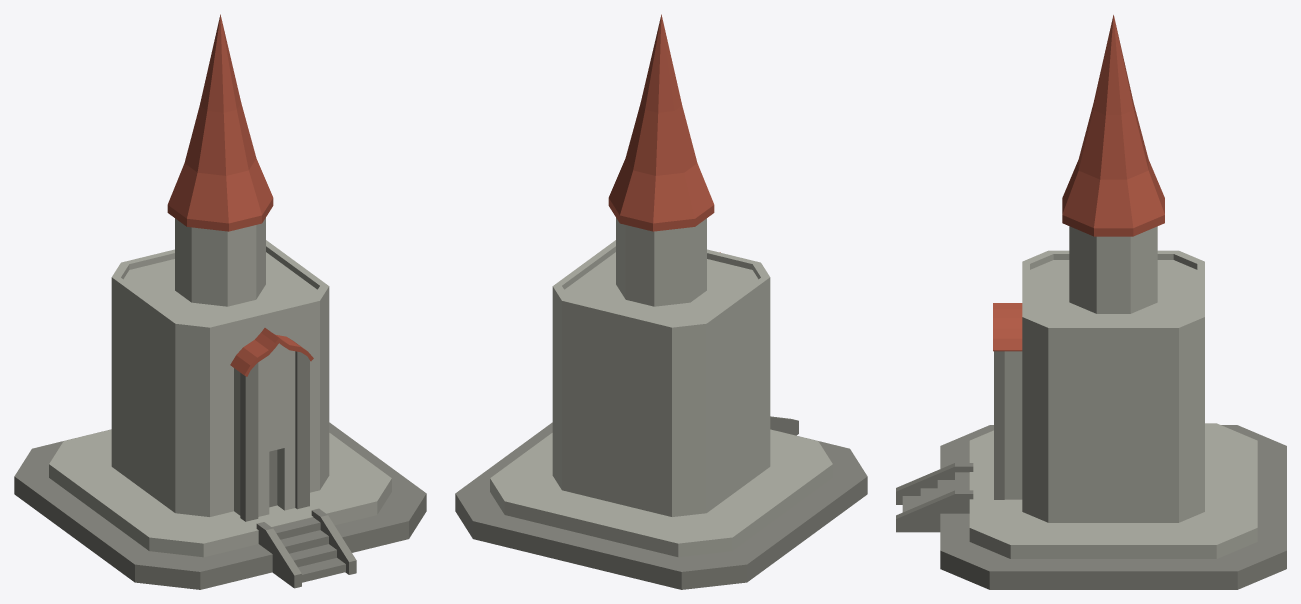
The model's file is Temple.glb.
3 renders of one model, left to right at view 1: azimuth 30°, elevation 25°; view 2: azimuth 150°, elevation 25°; view 3: azimuth 270°, elevation 25°, orthographic. The views are drawn at different scales.
Parts seen in each view (by area): view 1: Temple; view 2: Temple; view 3: Temple.
Part boxes in pixels (bbox=[...]): Temple: bbox=[14, 14, 426, 589]; Temple: bbox=[455, 14, 867, 589]; Temple: bbox=[896, 15, 1286, 589].
Size of the model in its own units: 2.09 by 3.36 by 2.36.
